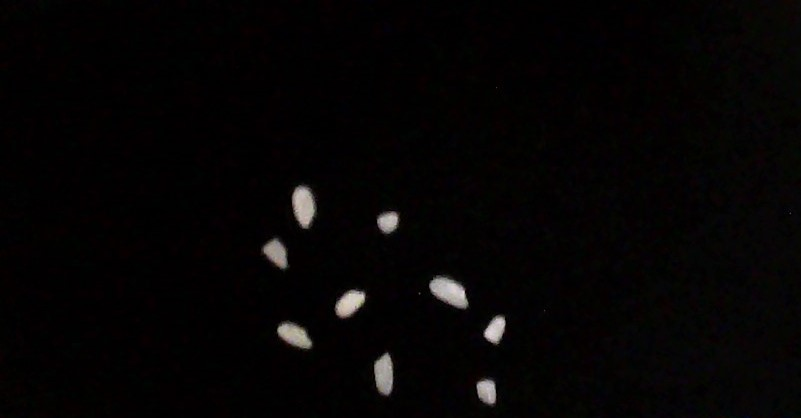broken_grain: (481, 309, 512, 351), (260, 232, 289, 270), (473, 376, 500, 407), (375, 206, 400, 235)
complete_grain: (428, 271, 470, 313), (288, 179, 319, 231), (370, 348, 398, 399), (275, 319, 316, 353), (332, 283, 368, 320)
